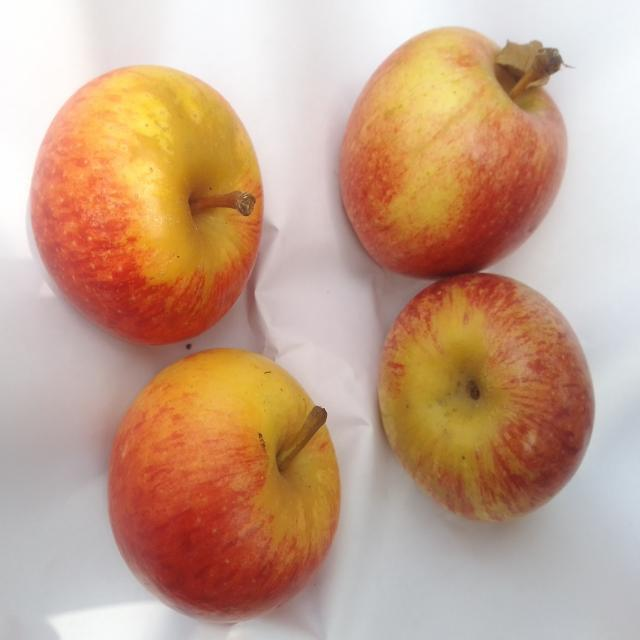Fresh Apple: (38, 73, 264, 345), (327, 28, 568, 272), (110, 357, 343, 605), (383, 278, 590, 530)
